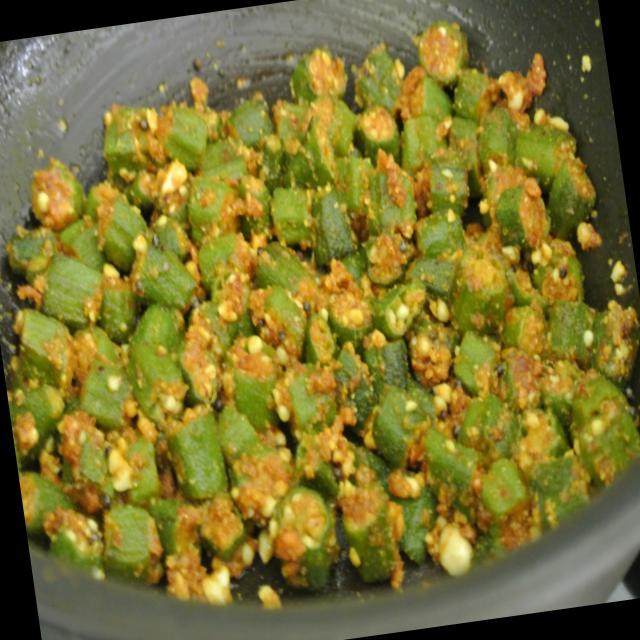BhindiMasala: (0, 1, 640, 636)
